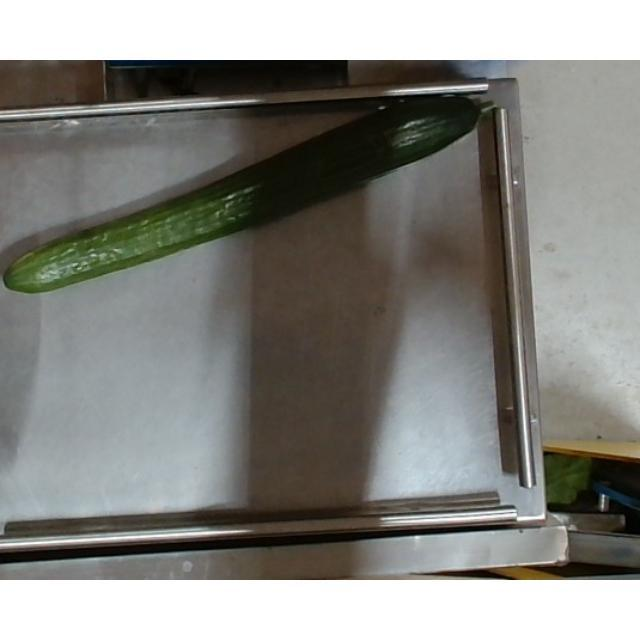cucumber: (2, 97, 498, 295)
